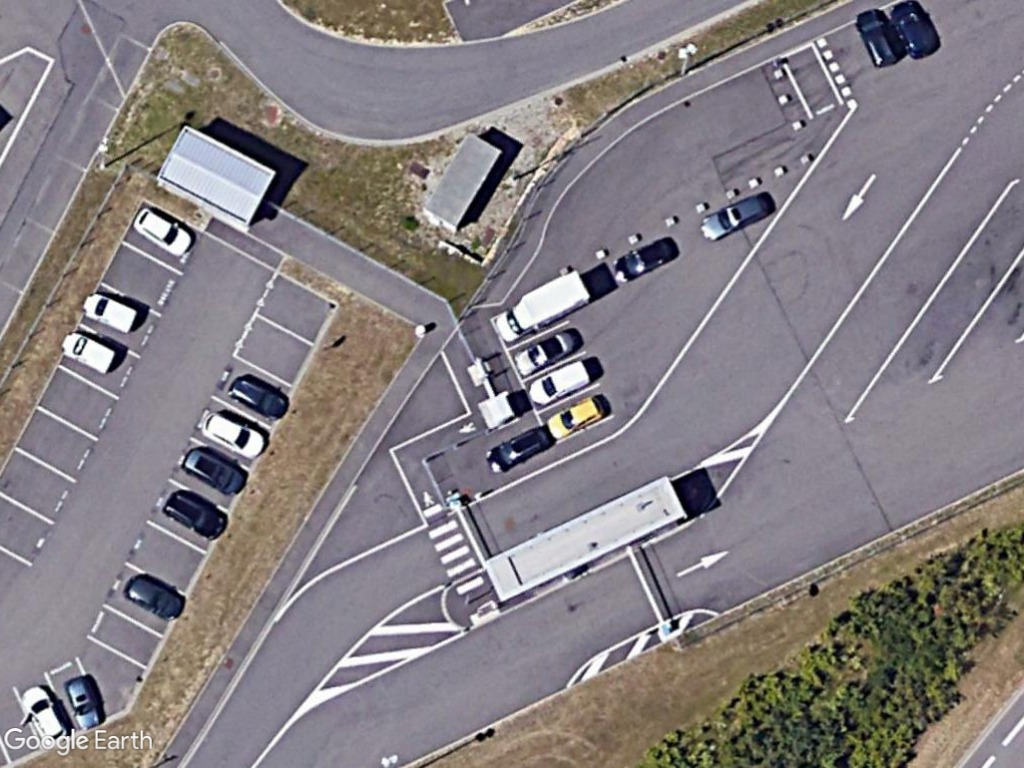car: (526, 352, 594, 407), (512, 324, 582, 377), (697, 194, 771, 244), (544, 391, 609, 445), (130, 205, 196, 258), (181, 445, 249, 496), (198, 410, 266, 459), (853, 7, 903, 70), (225, 375, 291, 422), (61, 329, 119, 376), (81, 292, 139, 334), (62, 675, 102, 733)
truck: (493, 264, 591, 345)
